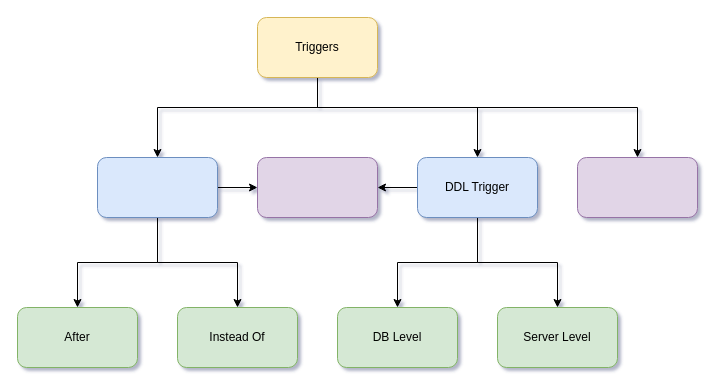
Some shapes in this 721 by 391 pixel diagram are drawn without their labels. Here are the shapes that lost their labels. From the top down, the centre of each, then its label:
At [157,187]: "DML Trigger".
At [317,187]: "CRL Trigger".
At [637,187]: "Logon Trigger".
